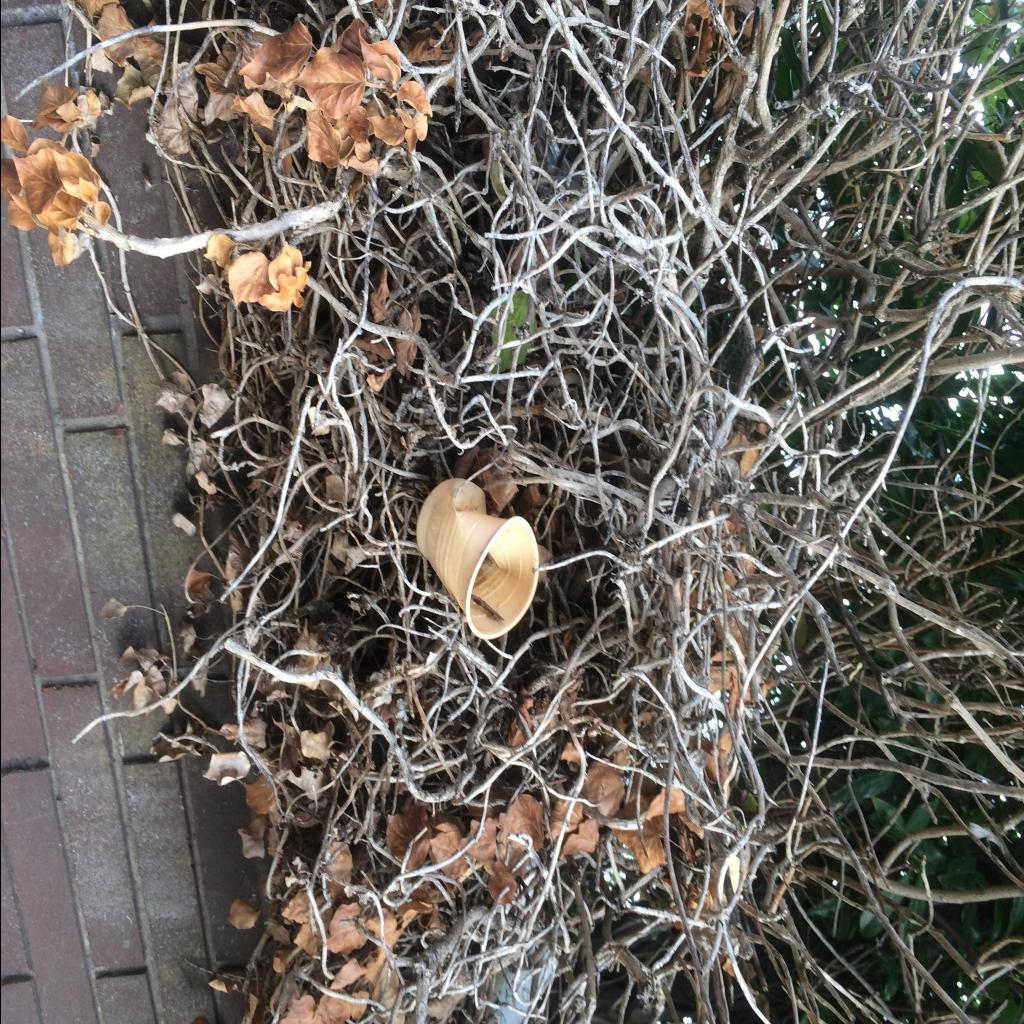Disposable plastic cup: (416, 478, 538, 640)
